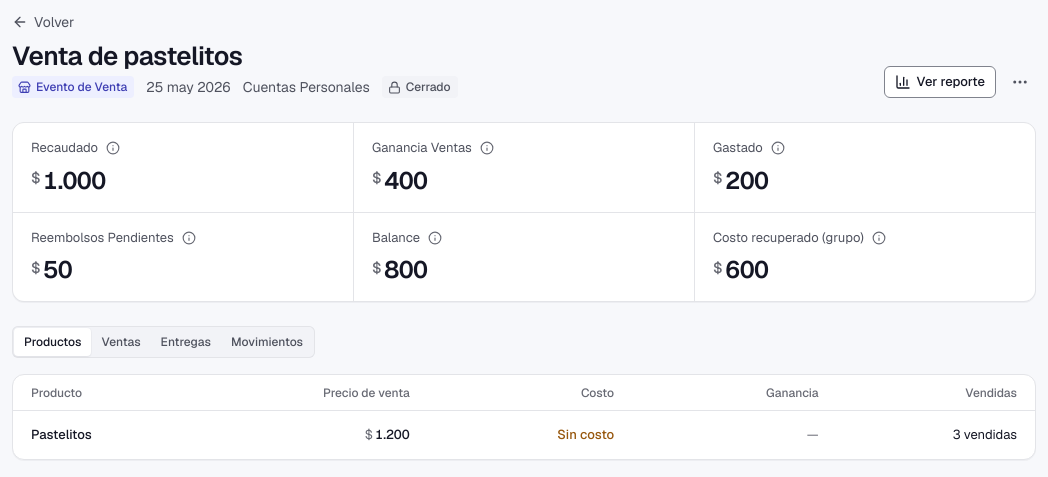
Test case: EventoDetailView › evento cerrado: sin acciones de edición
Expected: the text "Cerrado" is shown, [382,76,458,98]
Click the button named "Más acciones del evento": [1020, 82] box [1004,66,1036,98]
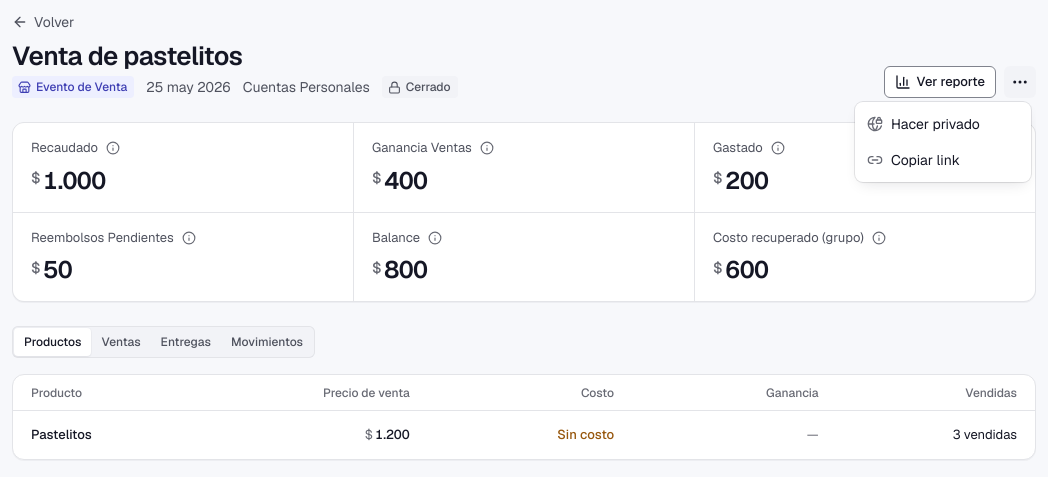
Expected: the menu item "Hacer privado" is shown, [867,115,980,133]
